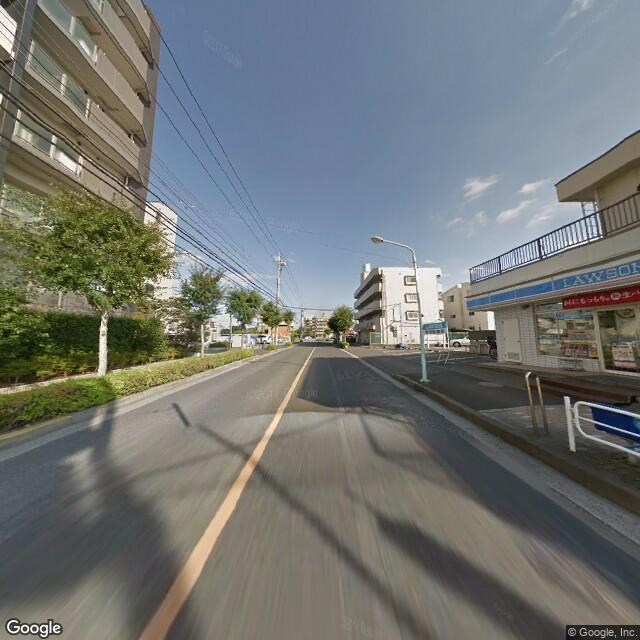lawson: (466, 251, 639, 313)
